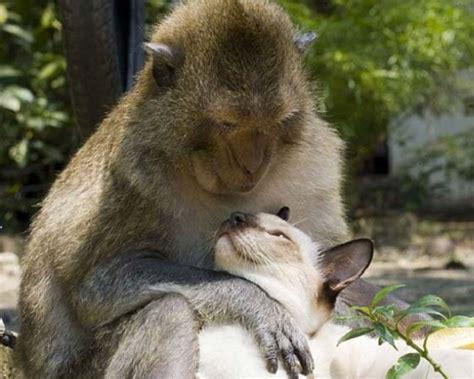cat: (195, 206, 373, 379)
monkey: (20, 1, 350, 378)
